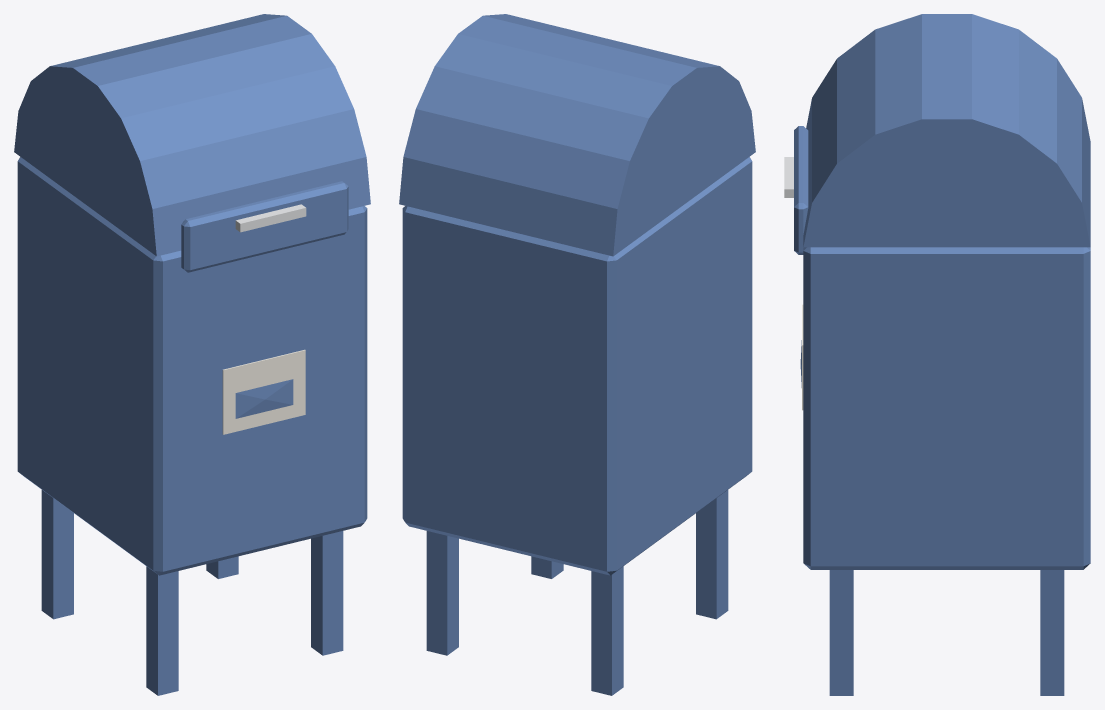
Rendered from mailbox_st.glb.
The picture shows the model from 3 angles, left to right: view 1: azimuth 30°, elevation 25°; view 2: azimuth 150°, elevation 25°; view 3: azimuth 270°, elevation 25°; orthographic projection.
Visible parts, largest first — view 1: mailbox_st_mailbox, mailbox_st_cream, mailbox_st_chrome; view 2: mailbox_st_mailbox; view 3: mailbox_st_mailbox.
Part boxes in pixels (x1,y1,x2,y2): mailbox_st_mailbox: (14,14,370,695); mailbox_st_cream: (222,349,305,434); mailbox_st_chrome: (235,204,306,232); mailbox_st_mailbox: (399,14,755,695); mailbox_st_mailbox: (794,14,1090,695).
Size of the model in its own units: 0.52 by 1.35 by 0.64.
